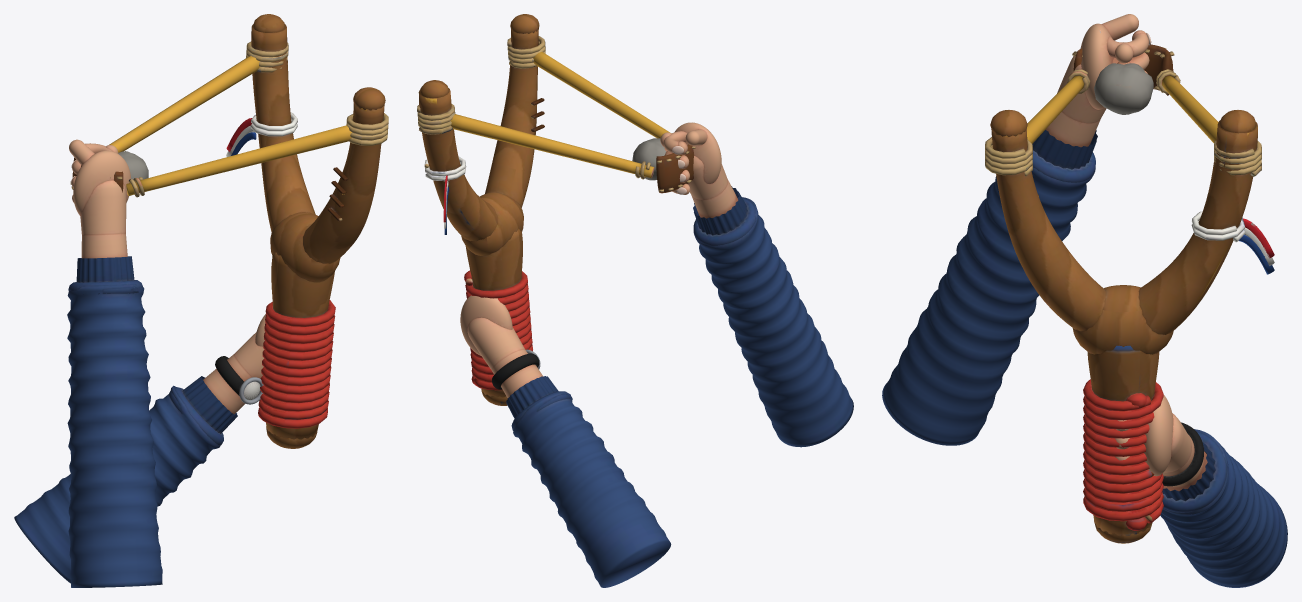
Rendered from katapult.glb.
3 views of the same model, side by side, from view 1: azimuth 30°, elevation 25°; view 2: azimuth 150°, elevation 25°; view 3: azimuth 270°, elevation 25° (orthographic). The views are drawn at different scales.
Visible parts, largest first — view 1: Katapult_Arms, Katapult_Frame, Katapult_Bands, Katapult_Stone; view 2: Katapult_Arms, Katapult_Frame, Katapult_Bands, Katapult_Pouch, Katapult_Stone; view 3: Katapult_Arms, Katapult_Frame, Katapult_Bands, Katapult_Stone, Katapult_Pouch.
Boxes of the visible parts, x1,y1,x2,y2 form: Katapult_Arms: (14,139,265,587); Katapult_Frame: (226,14,388,448); Katapult_Bands: (109,56,351,197); Katapult_Stone: (118,151,148,195); Katapult_Arms: (460,122,853,587); Katapult_Frame: (417,14,545,405); Katapult_Bands: (450,52,671,179); Katapult_Pouch: (656,144,696,193); Katapult_Stone: (632,138,666,180); Katapult_Arms: (882,14,1287,587); Katapult_Frame: (985,110,1274,543); Katapult_Bands: (1027,69,1218,143); Katapult_Stone: (1094,63,1153,114); Katapult_Pouch: (1072,42,1174,95).
Bounding box in the file's own units: 0.5695 × 0.8133 × 0.5103.
1 material, 1 textured.
